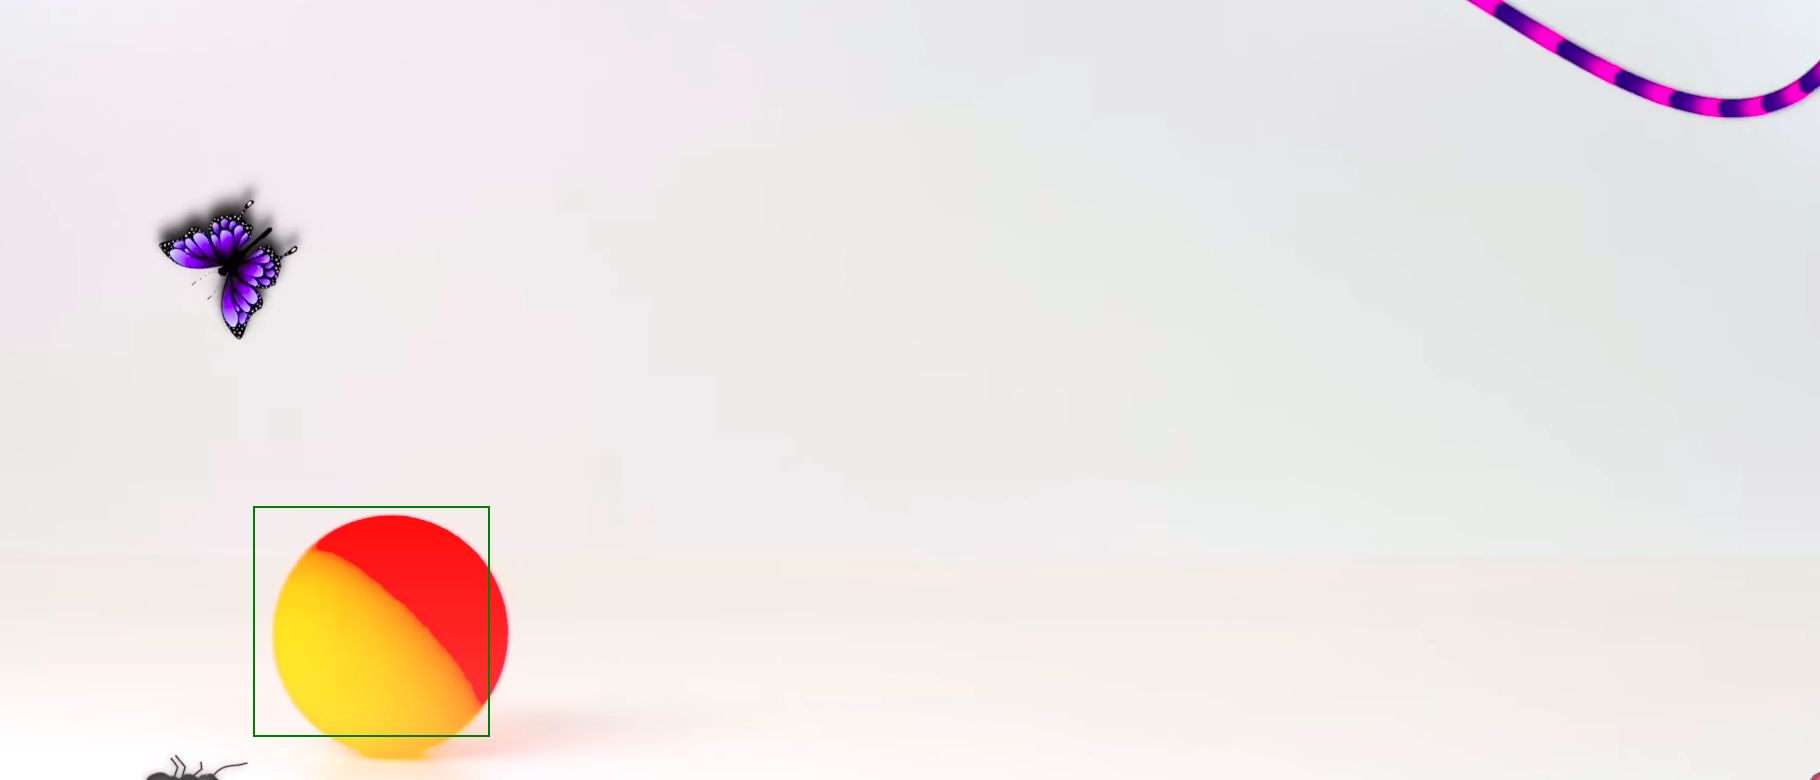Circle: (269, 510, 514, 761)
